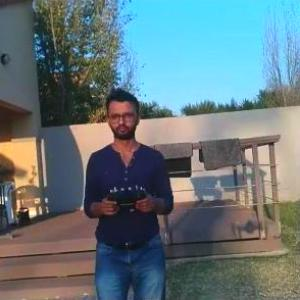follow: (79, 82, 178, 299)
